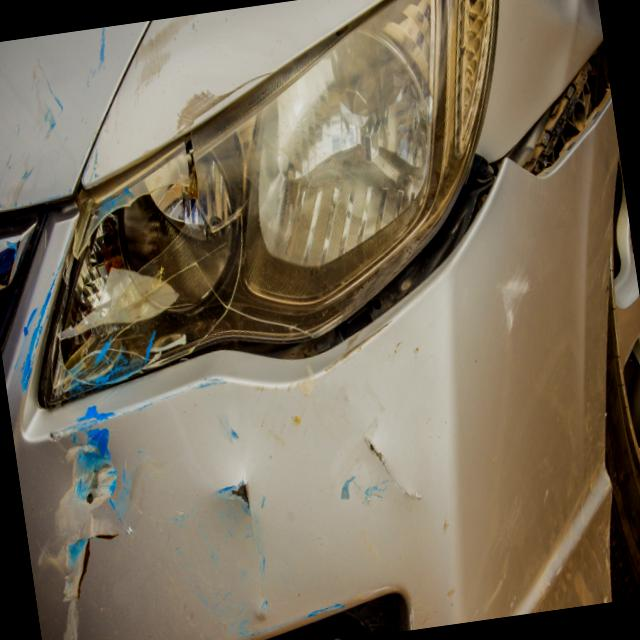Dechirure: (57, 514, 140, 598)
Phare abime: (18, 125, 277, 397)
Rayure: (0, 244, 399, 584), (0, 24, 148, 224)
